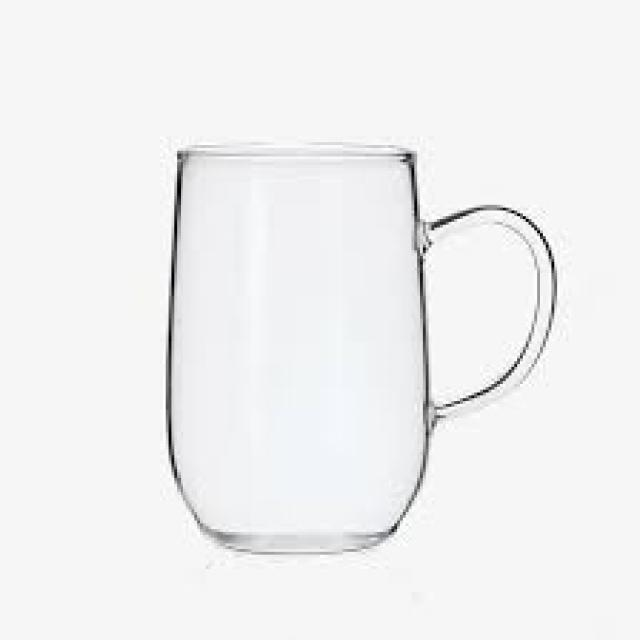Glass-Non-Biodegradable but Recyclable-: (167, 148, 555, 558)
